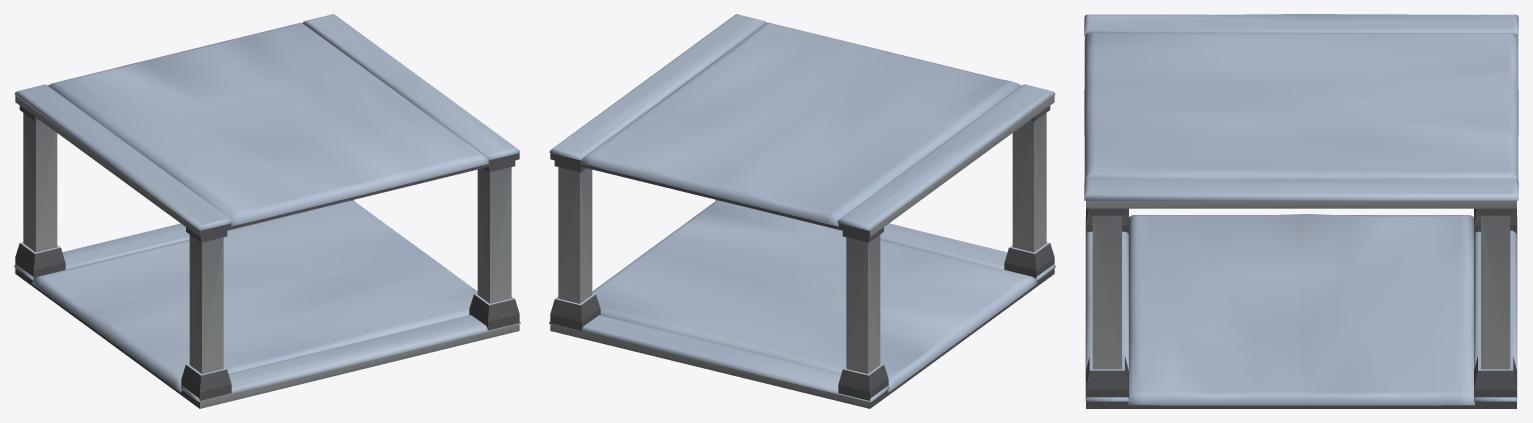
Rendered from overpass.glb.
3 renders of one model, left to right at view 1: azimuth 30°, elevation 25°; view 2: azimuth 150°, elevation 25°; view 3: azimuth 270°, elevation 25°, orthographic. The views are drawn at different scales.
Parts seen in each view (by area): view 1: Prop; view 2: Prop; view 3: Prop.
Boxes of the visible parts, left/top/right/bottom form: Prop: left=14, top=14, right=520, bottom=408; Prop: left=549, top=14, right=1055, bottom=408; Prop: left=1084, top=14, right=1518, bottom=408.
Size of the model in its own units: 12.08 by 6.66 by 12.08.
